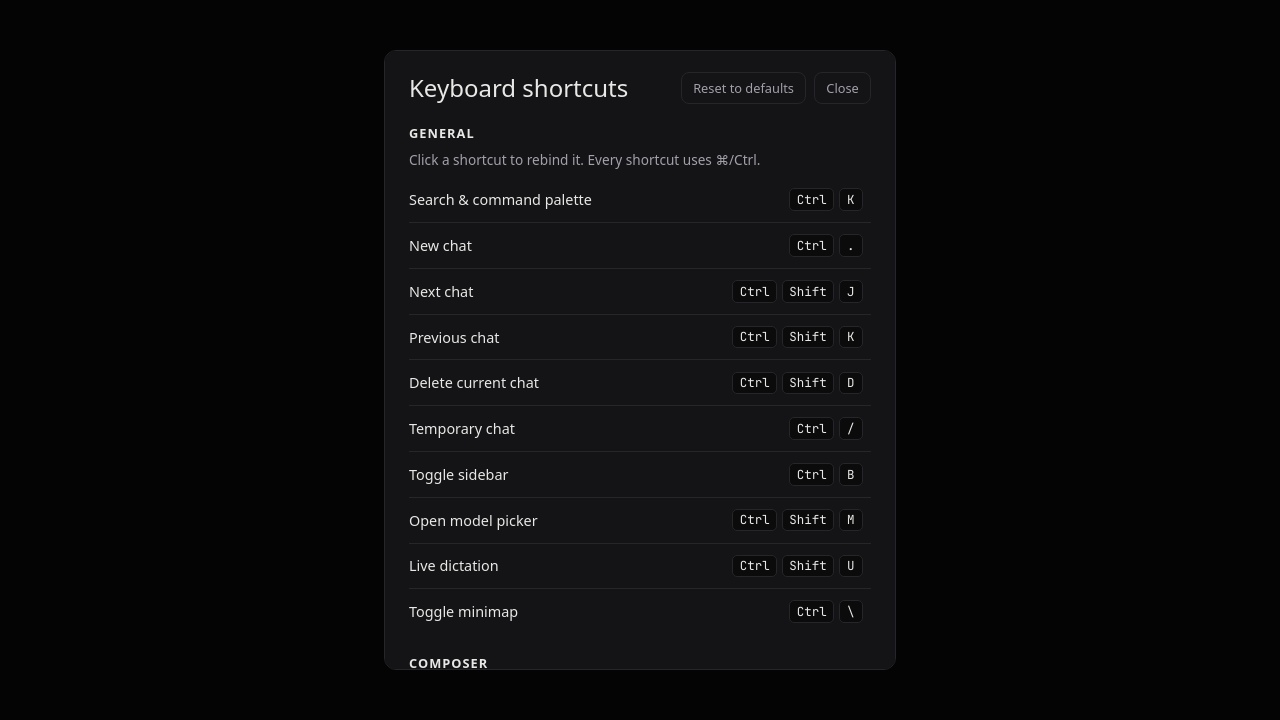
Test: KeyboardSheet — rebinding › a conflicting chord is rejected with a message
The image size is (1280, 720).
Click the button "Ctrl B".
click(826, 474)  # box top-left (781, 459), bottom-right (871, 490)
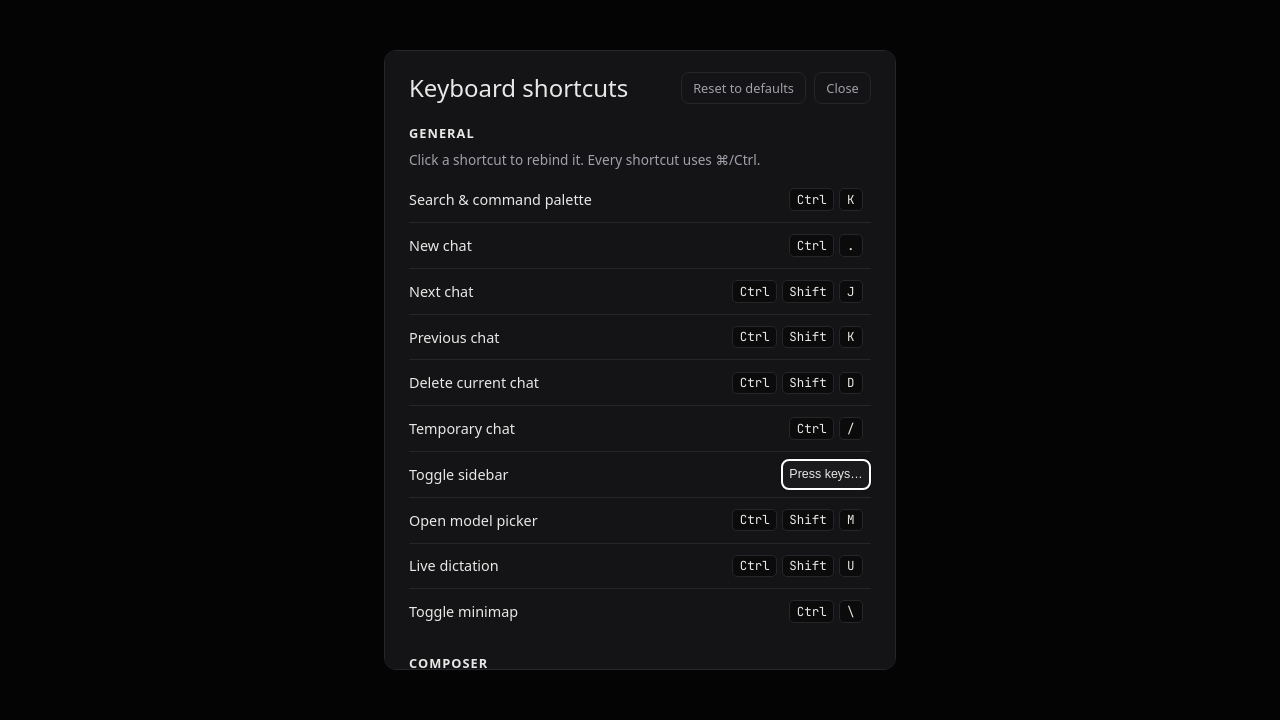
Press k
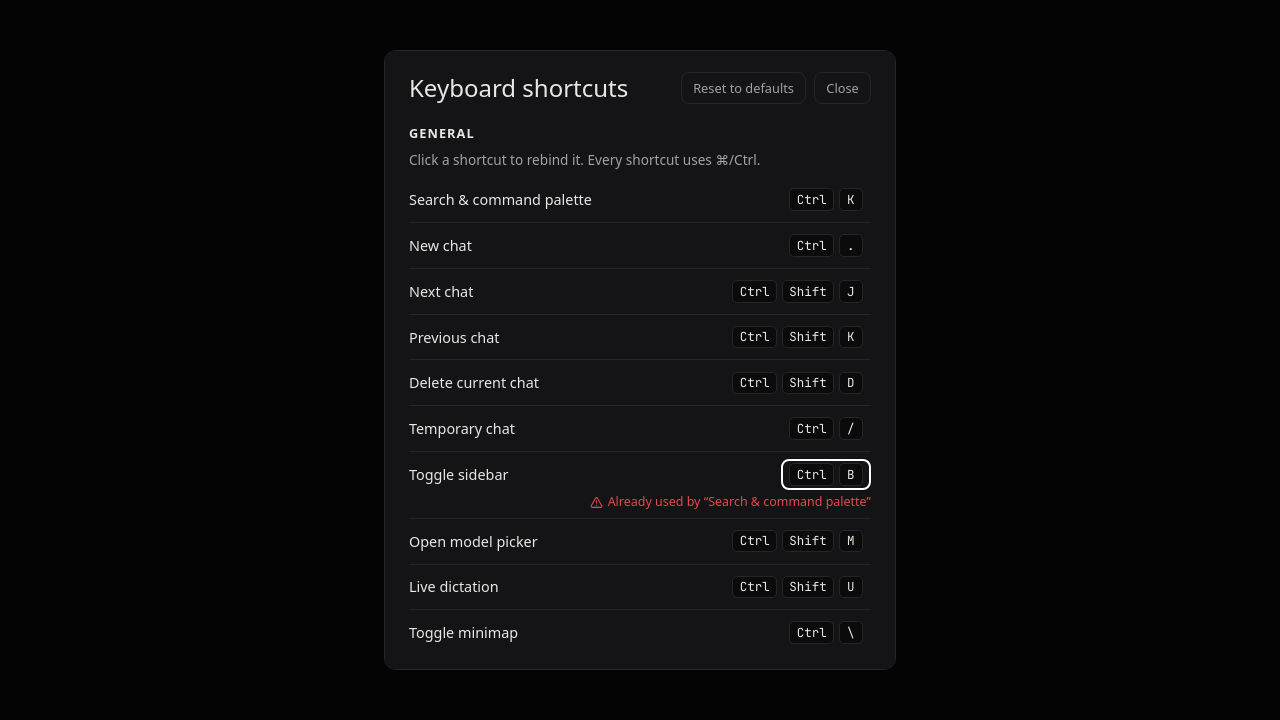
Expected: the message shows "Already used by", top-left (608, 493), bottom-right (871, 510)
